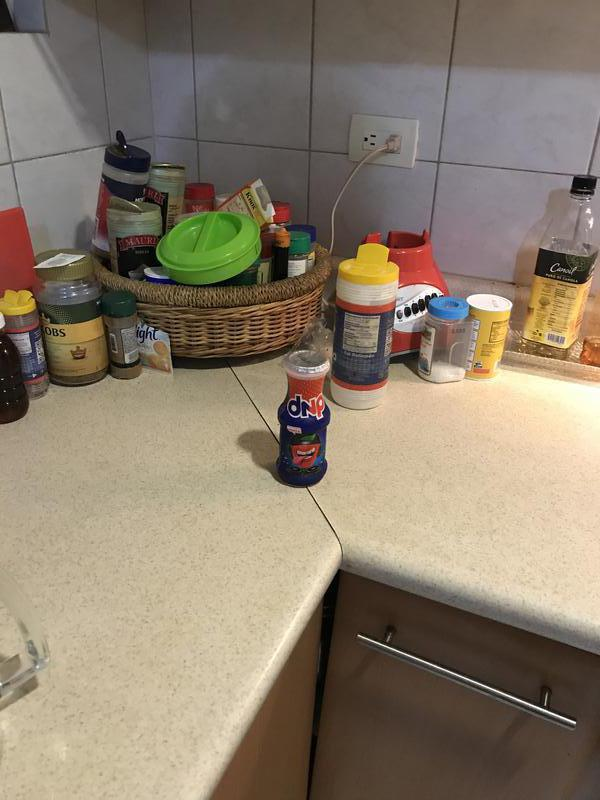danup: (279, 348, 330, 485)
